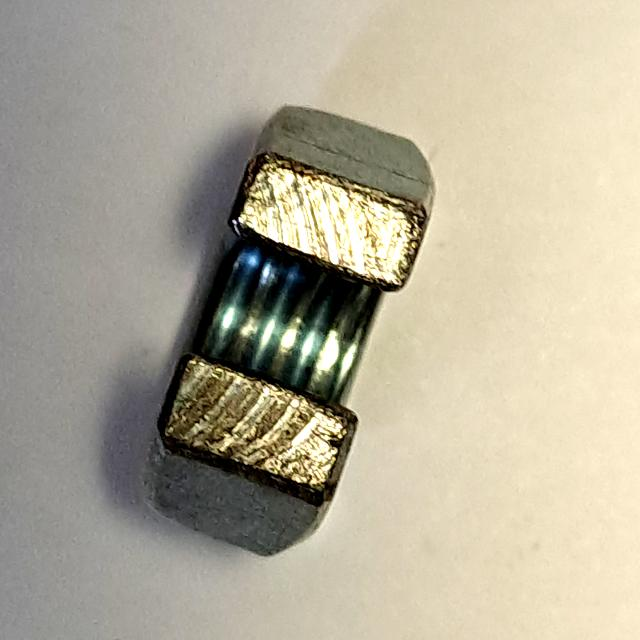Side-Fracture: (125, 89, 448, 570)
